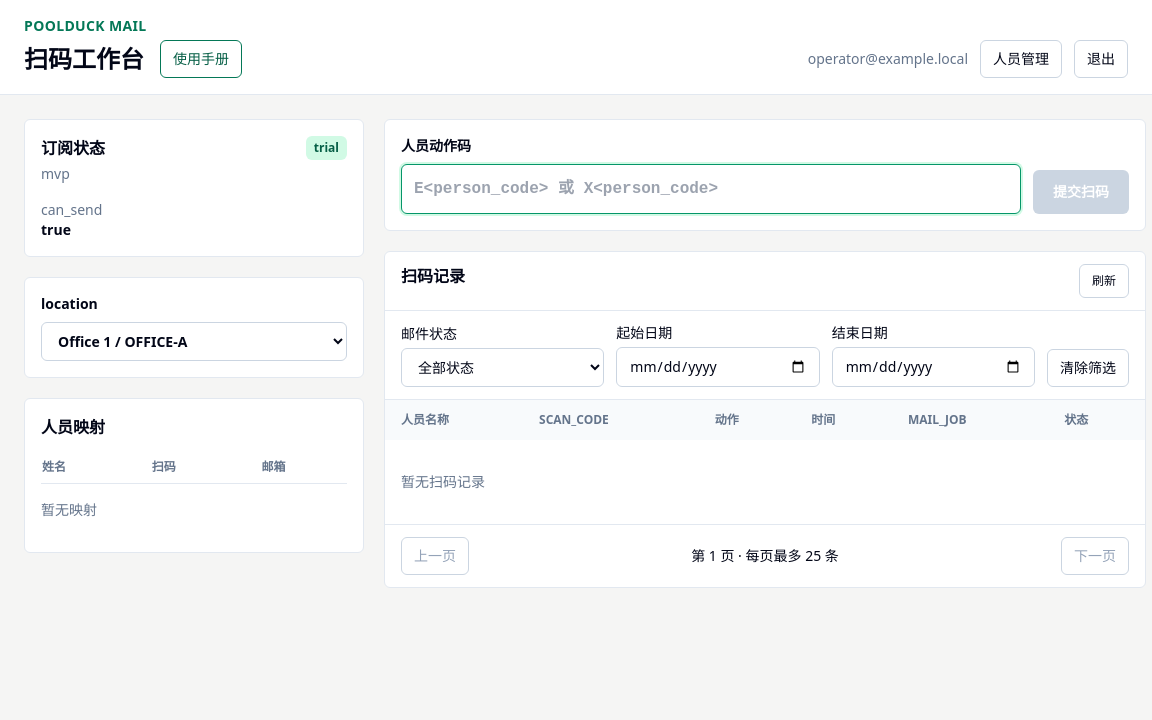
Test case: history workspace › allows scan entry for a sendable trial subscription
The width and height of the screenshot is (1152, 720).
Expected: the text with test id "license-status" reads "trial", [314,139,339,156]
Step 1. Type "E01K0ABC80001" into the field with test id "scan-code-input" → (711, 189), box [401,164,1021,214]
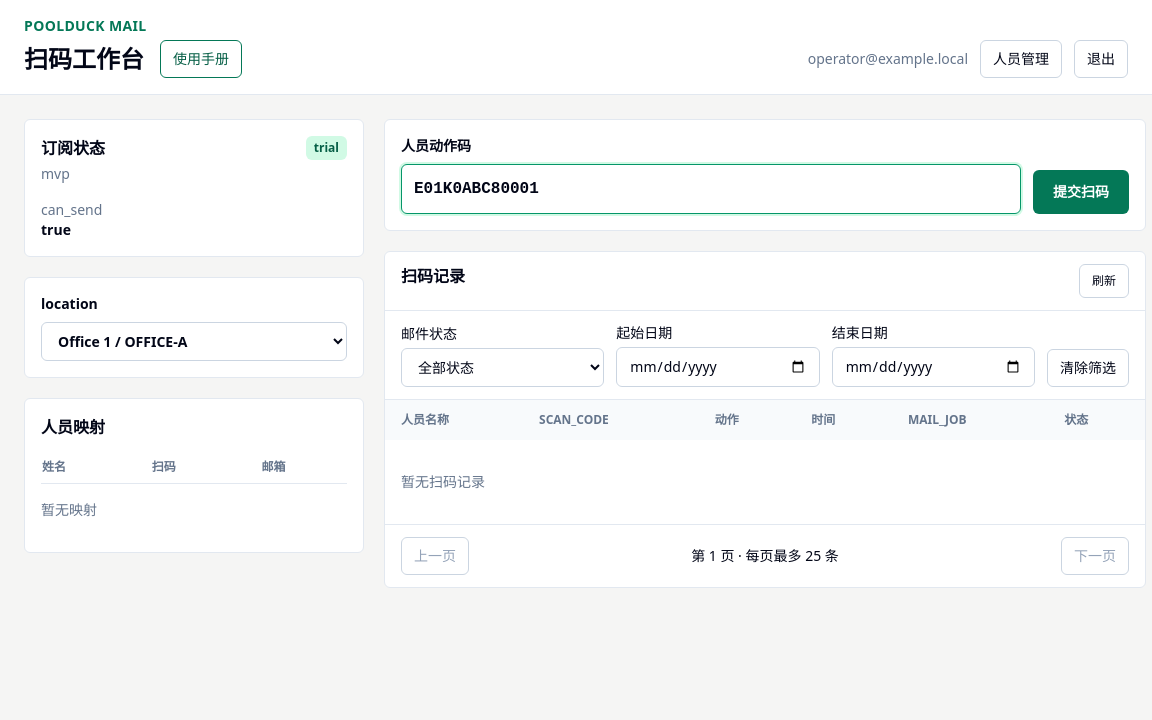
Expected: the button with test id "scan-submit" is enabled, [1033,170,1129,214]
